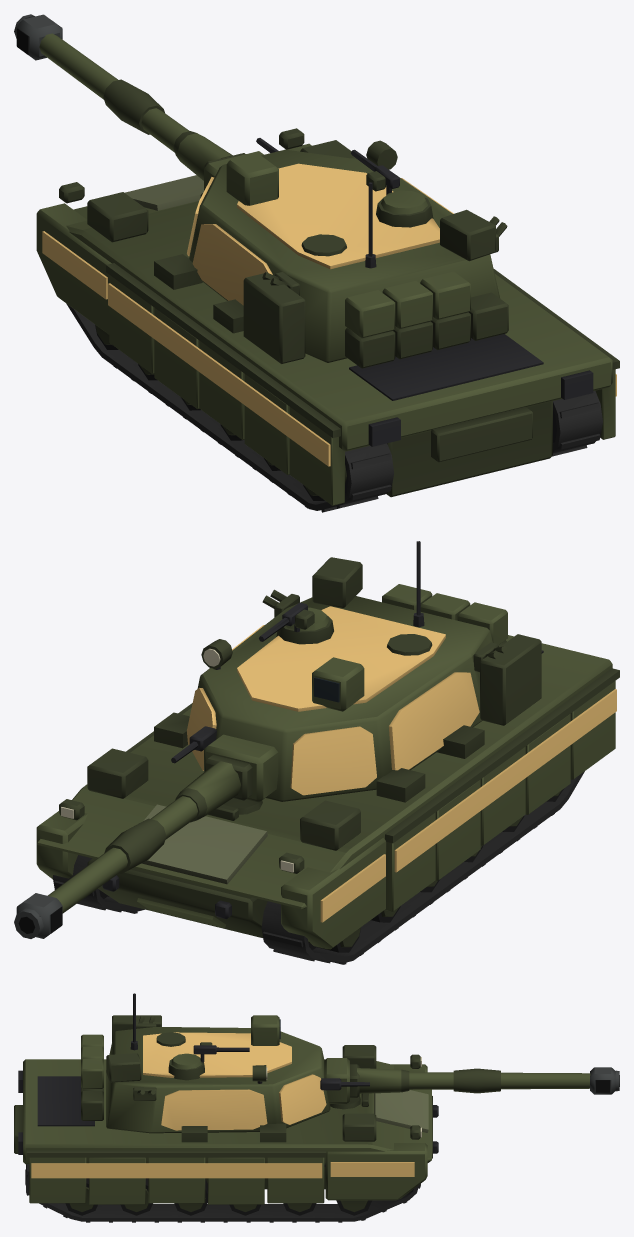
File: heavy_tank.glb
3 views of the same model, one above another, from view 1: azimuth 30°, elevation 25°; view 2: azimuth 150°, elevation 25°; view 3: azimuth 270°, elevation 25° (orthographic). The views are drawn at different scales.
Visible parts, largest first — view 1: Hull, Turret; view 2: Hull, Turret; view 3: Hull, Turret.
Part boxes in pixels (left/top/right/bottom): Hull: left=36, top=128, right=619, bottom=512; Turret: left=14, top=14, right=508, bottom=368; Hull: left=36, top=635, right=619, bottom=964; Turret: left=14, top=541, right=541, bottom=938; Hull: left=14, top=1045, right=438, bottom=1222; Turret: left=81, top=993, right=619, bottom=1133.
Bounding box in the file's own units: 1.03 × 0.9347 × 2.84.
